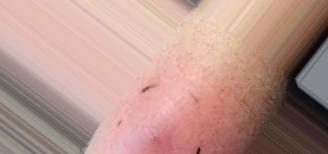Spider: (130, 126, 175, 153)
